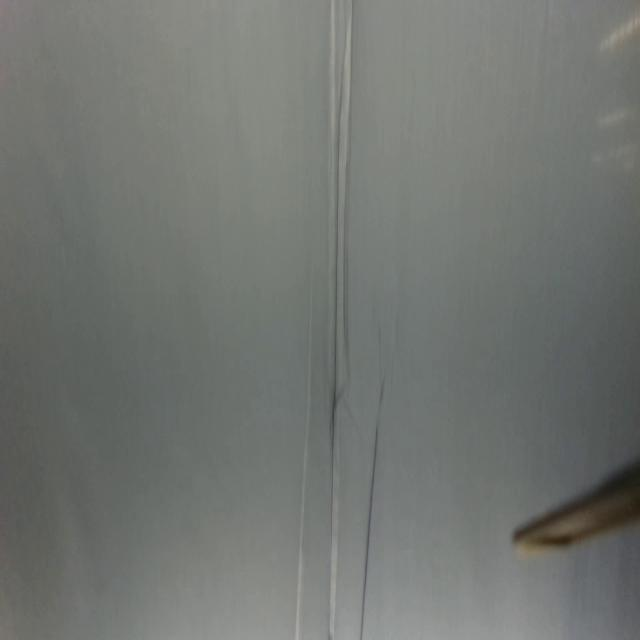crease: (326, 0, 355, 637), (292, 265, 316, 640), (359, 376, 388, 640)
